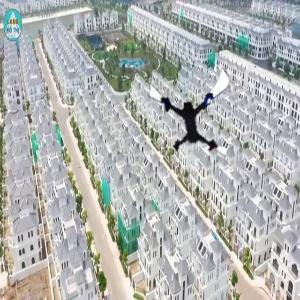drone: (143, 66, 237, 160)
